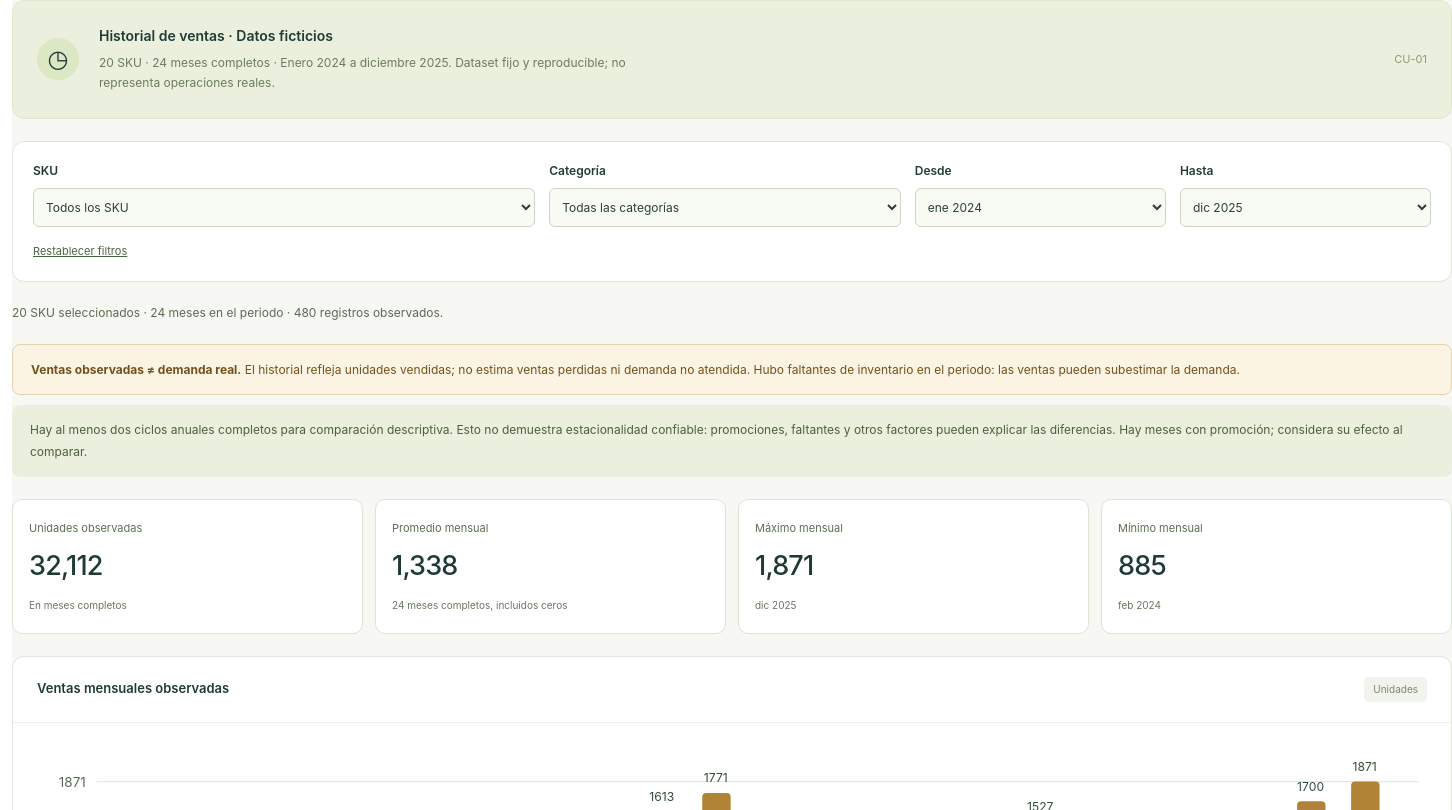
it: Pantalla Historial › mantiene consistencia entre tabla mensual y gráfico al filtrar
Step 1. Select "SKU-020 · Bolsas de basura 10 piezas" in the dropdown labelled "SKU" → (284, 207), box [33, 188, 535, 227]
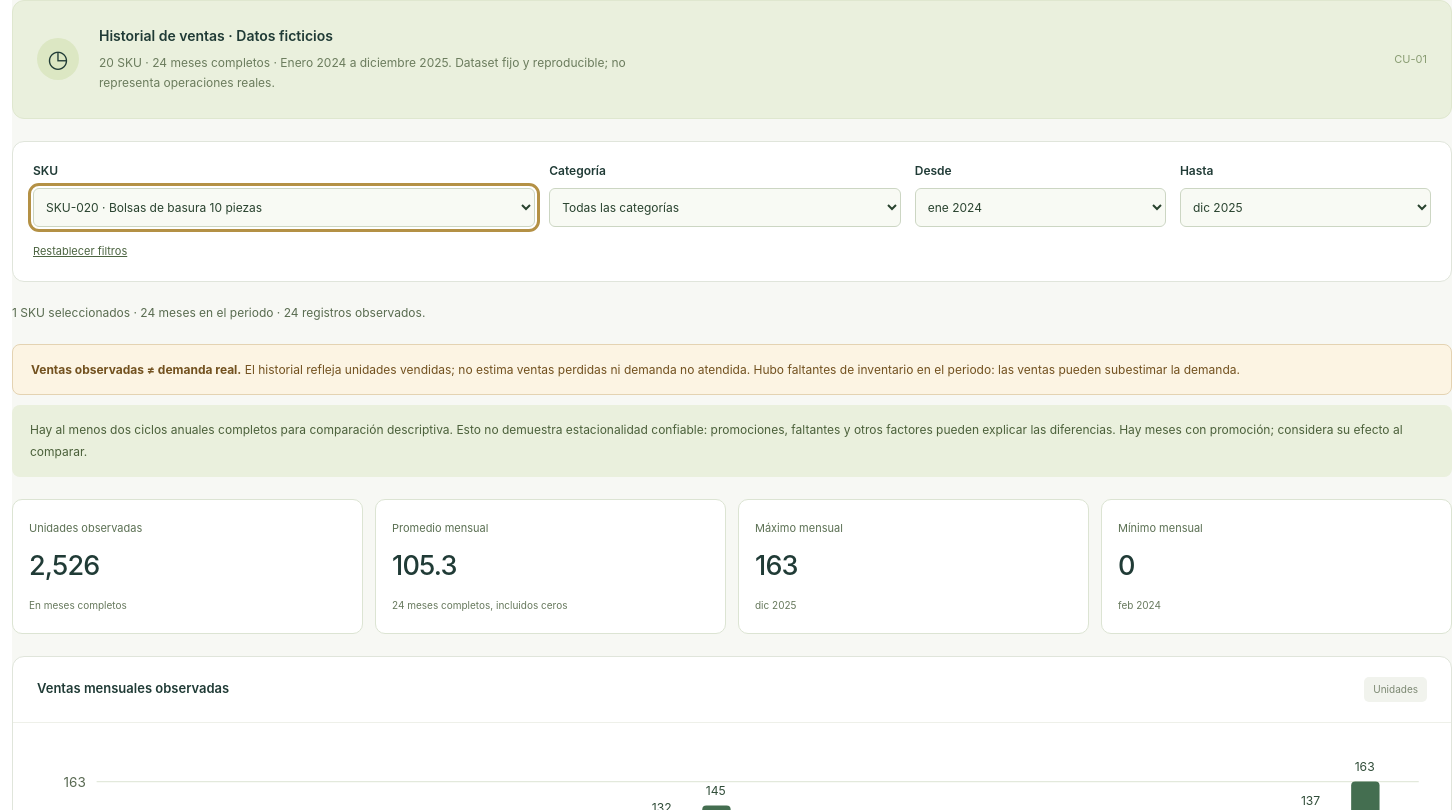
Step 2. Select "feb 2024" in the dropdown labelled "Hasta" → (1305, 207), box [1180, 188, 1431, 227]
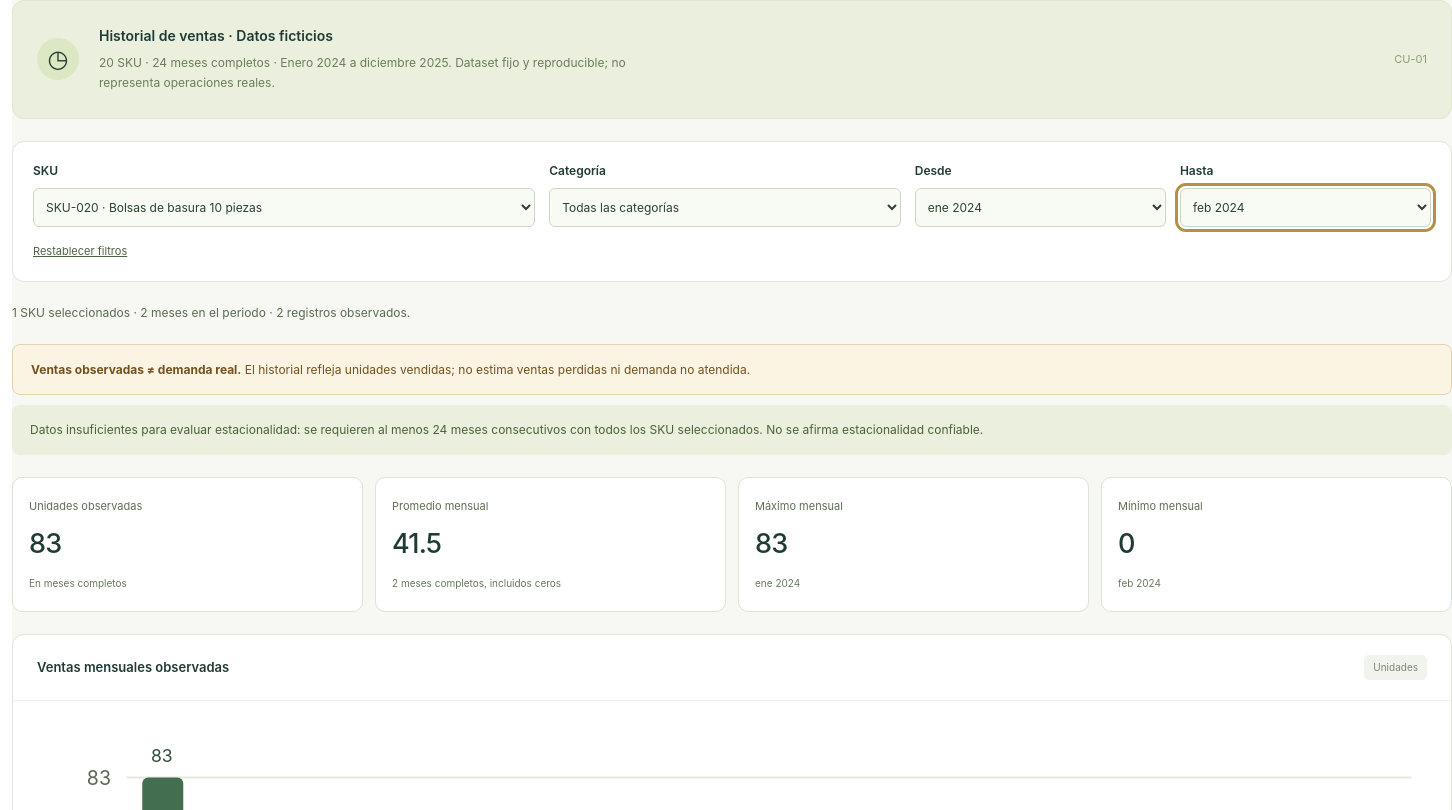
Now the text "Datos insuficientes para evaluar estacionalidad" is shown, box [30, 422, 983, 437]
